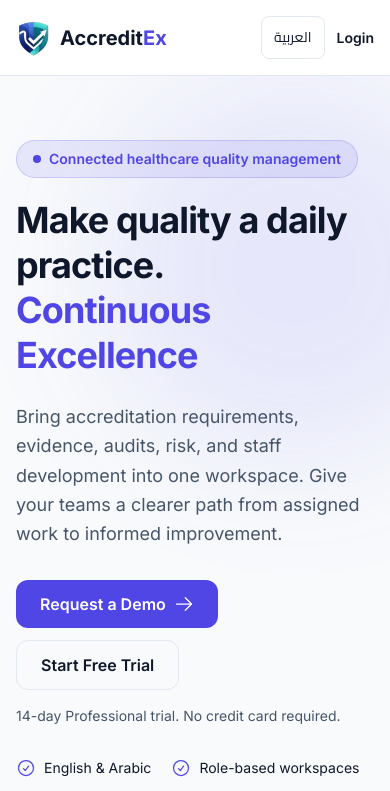
Public landing experience › switches the public interface to Arabic
The width and height of the screenshot is (390, 791).
Step 1. Click the button with aria-label "Switch to Arabic" → (293, 38), box [261,16,325,59]
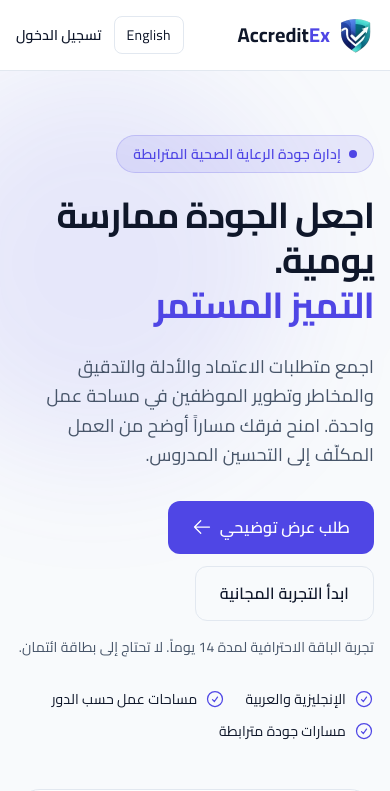
Expected: the heading "اجعل الجودة ممارسة يومية.التميز المستمر" is shown, [16,193,374,328]
Expected: the button with aria-label "التبديل إلى الإنجليزية" is shown, [114,16,184,54]
